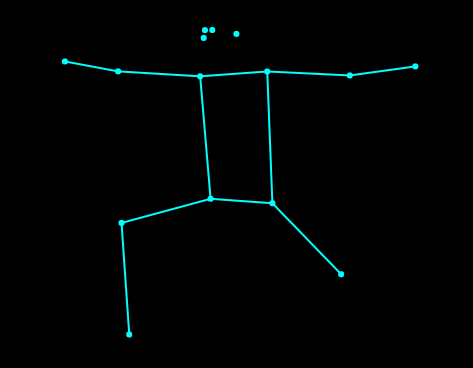warrior_2: (53, 21, 422, 340)
